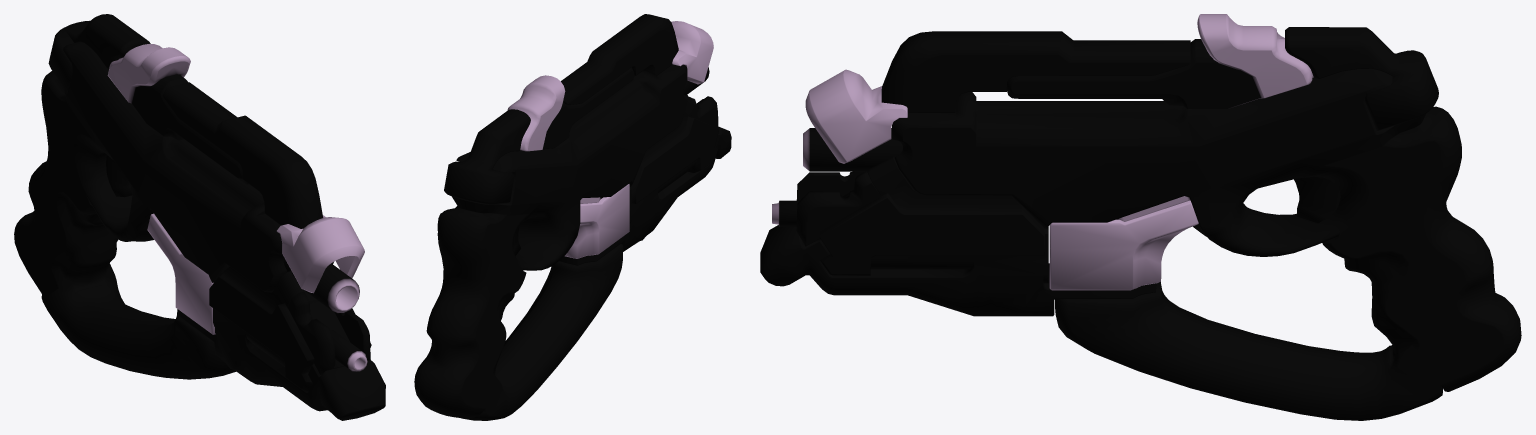
3 renders of one model, left to right at view 1: azimuth 30°, elevation 25°; view 2: azimuth 150°, elevation 25°; view 3: azimuth 270°, elevation 25°, orthographic. The views are drawn at different scales.
Parts seen in each view (by area): view 1: m5lp; view 2: m5lp; view 3: m5lp.
Boxes of the visible parts, x1,y1,x2,y2 form: m5lp: (14, 14, 385, 420); m5lp: (414, 14, 731, 420); m5lp: (760, 14, 1521, 420).
Size of the model in its own units: 23.33 by 109 by 191.
